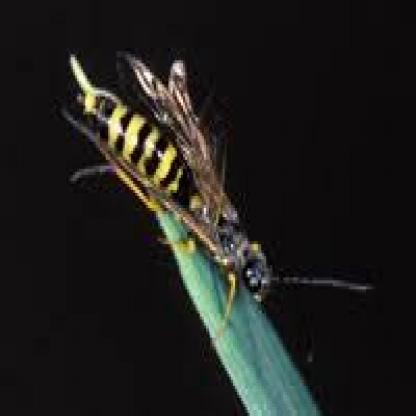sawfly: (64, 44, 370, 302)
